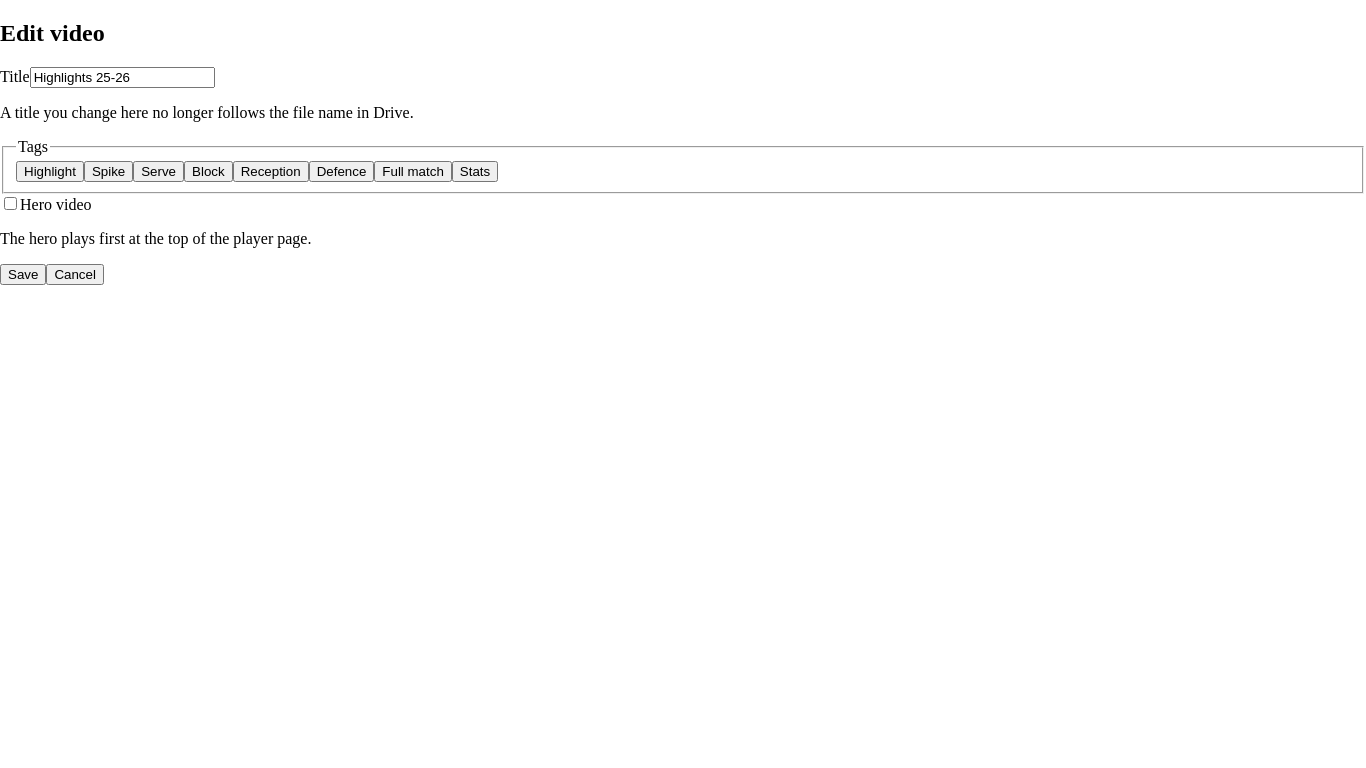
EditVideoSheet › explains a refused edit
Click the checkbox labelled "Hero video". click: click(10, 204)
box: [4, 197, 17, 210]
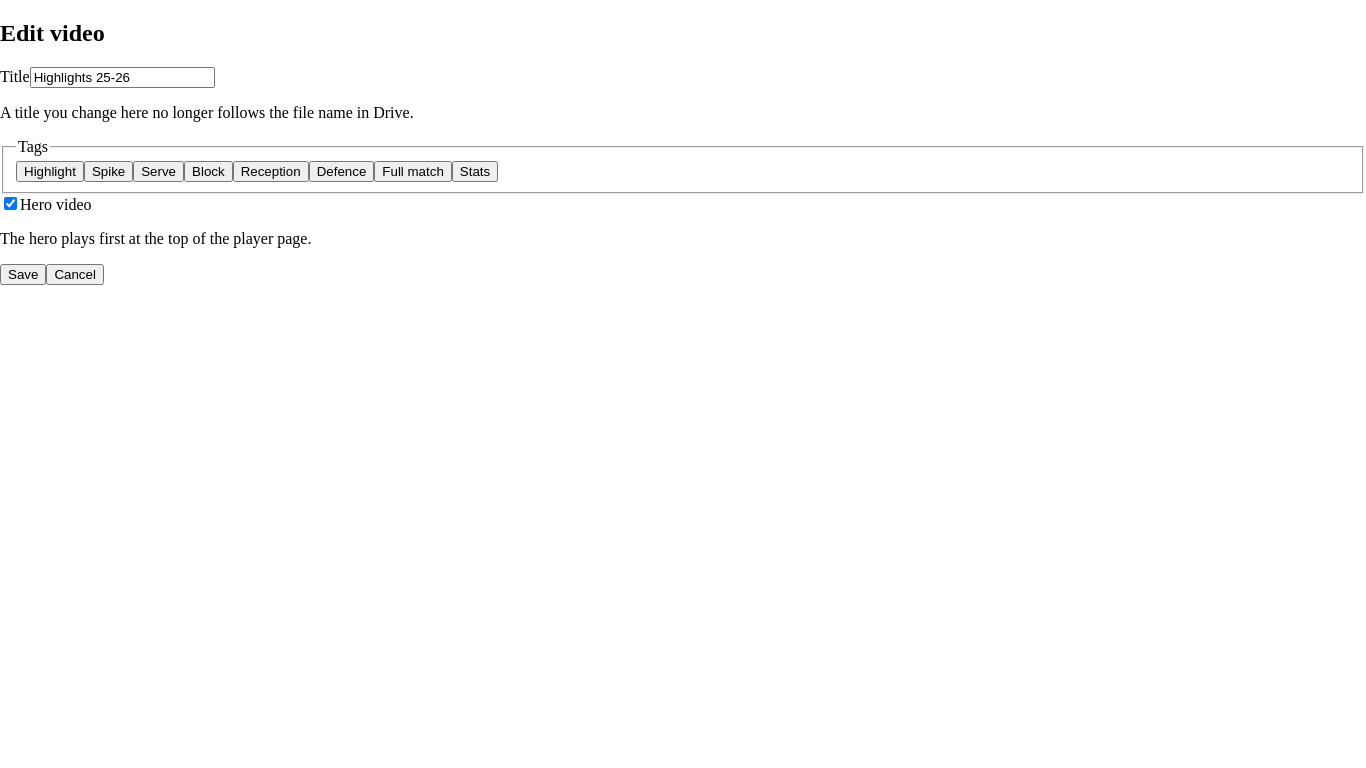
Click the button "Save". click: click(23, 275)
box: [0, 264, 46, 285]
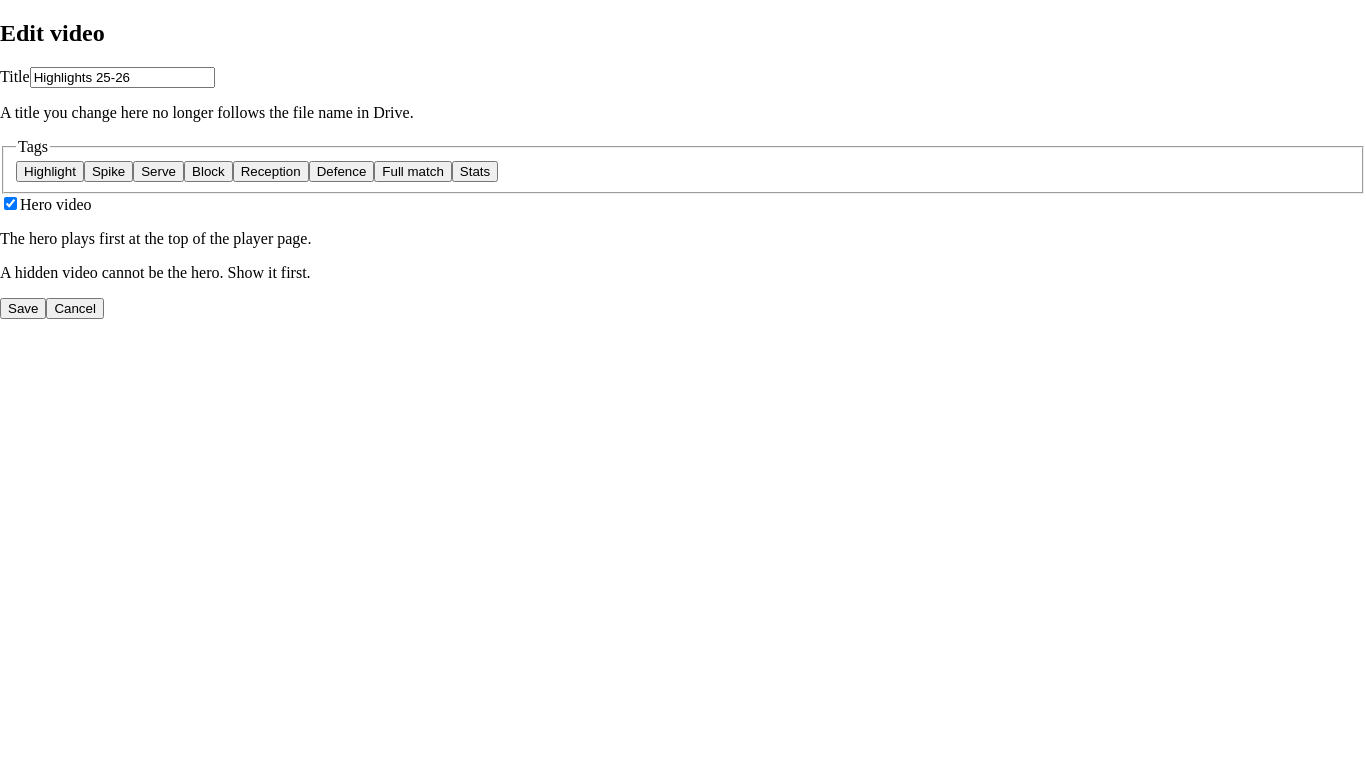
Check: the message shows "hidden video cannot be the hero", box [0, 264, 311, 281]
